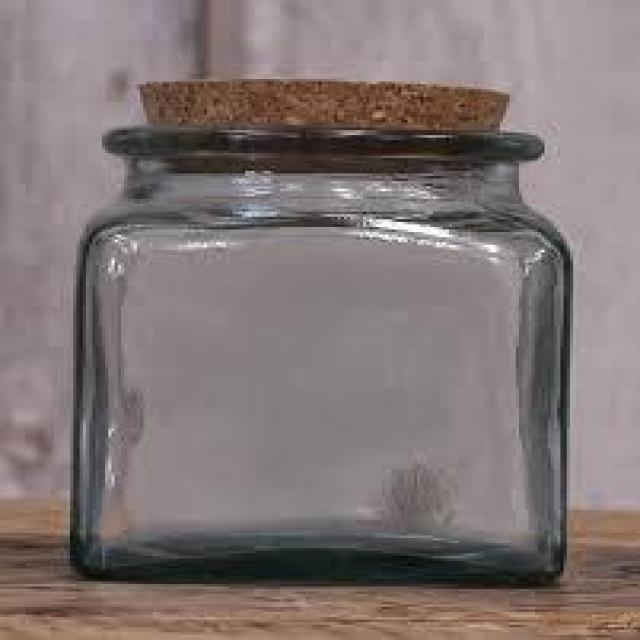Glass: (73, 76, 573, 584)
